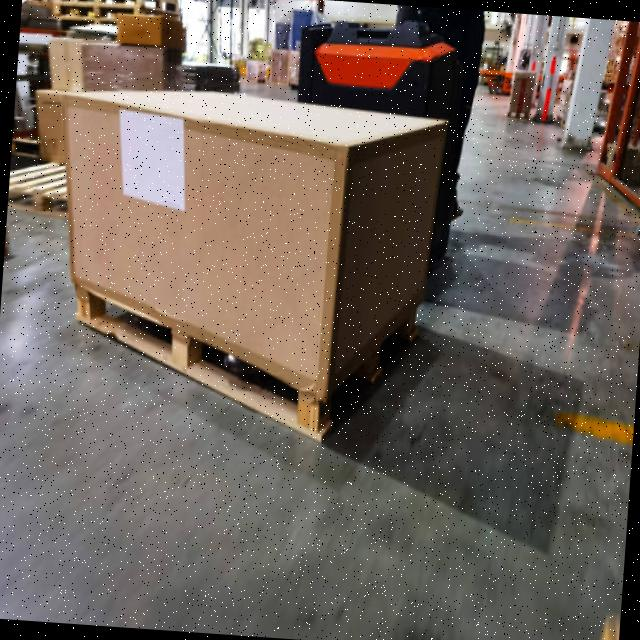Wooden-Pallets: (70, 277, 423, 447)
